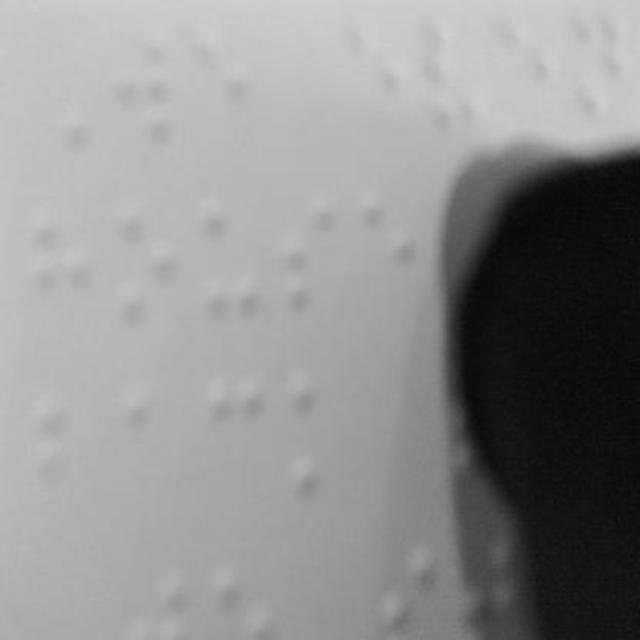braiile: (206, 373, 276, 517), (38, 387, 110, 523), (188, 15, 262, 147), (121, 381, 190, 521), (346, 6, 418, 138), (115, 193, 187, 325), (282, 189, 354, 321), (202, 192, 274, 321), (288, 372, 354, 512), (501, 9, 573, 135), (364, 188, 431, 322), (114, 22, 182, 148), (31, 199, 97, 325), (576, 7, 636, 131)
